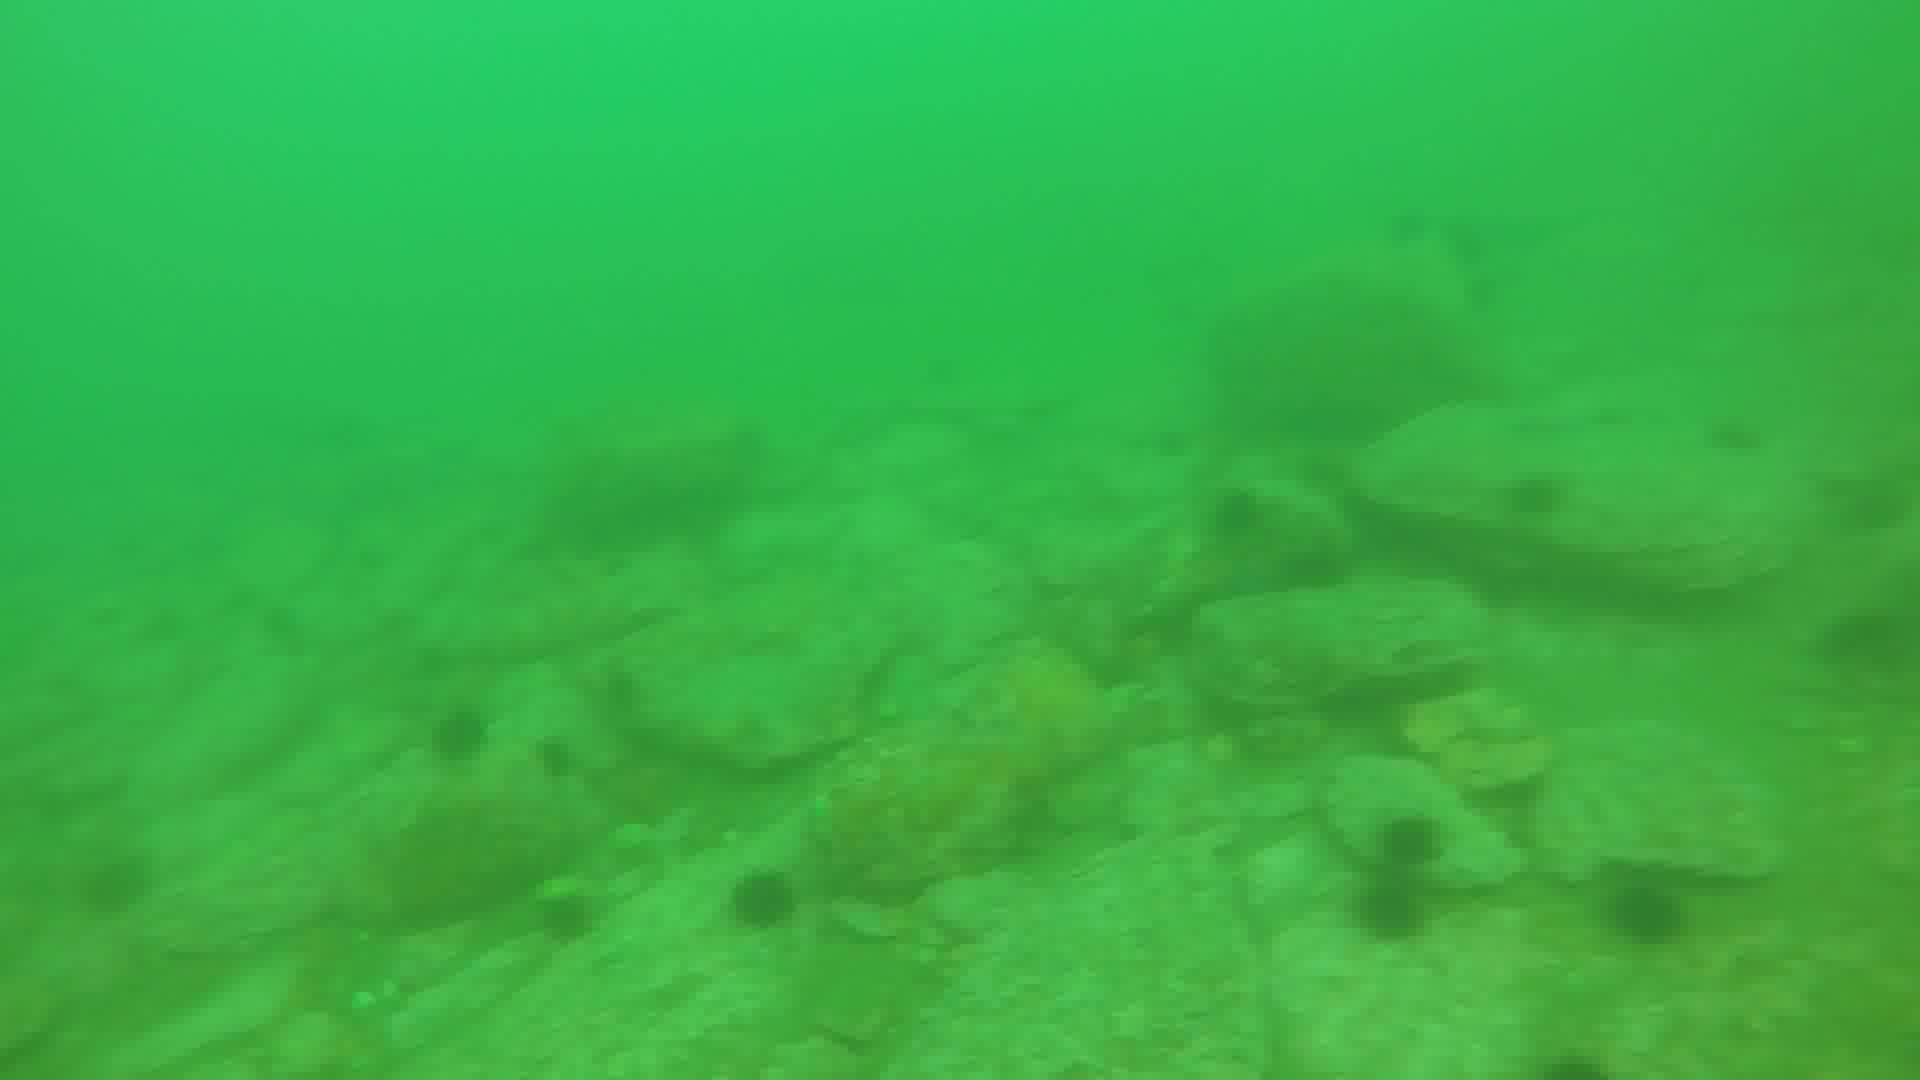echinus: (1604, 882, 1693, 942), (1356, 880, 1429, 943), (1374, 815, 1447, 874), (731, 881, 803, 924), (426, 715, 488, 762), (1505, 476, 1568, 520), (541, 897, 599, 943)
